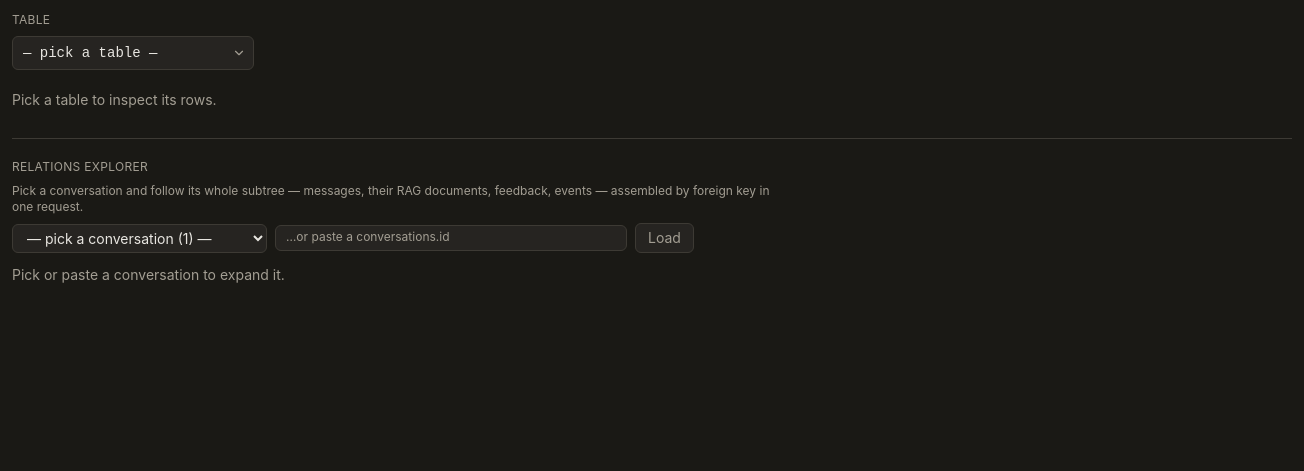
DbViz › says how many rows the cap actually returned when the slice is truncated
This screenshot has width=1304, height=471.
Select "conversations — 12 rows" in the 1st dropdown at (133, 53), box [12,36,254,70]
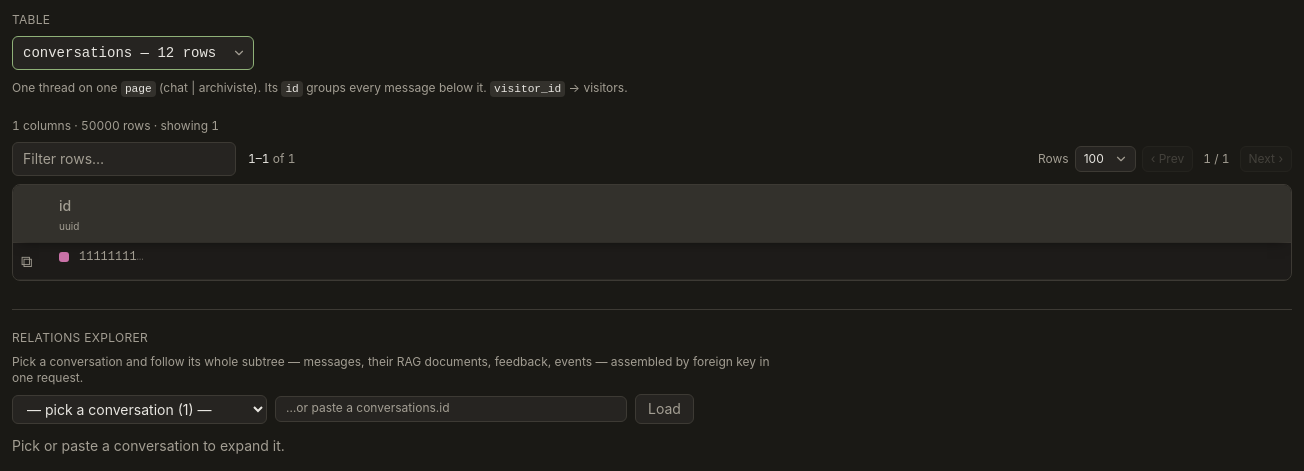
Result: the text "1 columns · 50000 rows · showing 1" is shown at [12,118,219,133]
